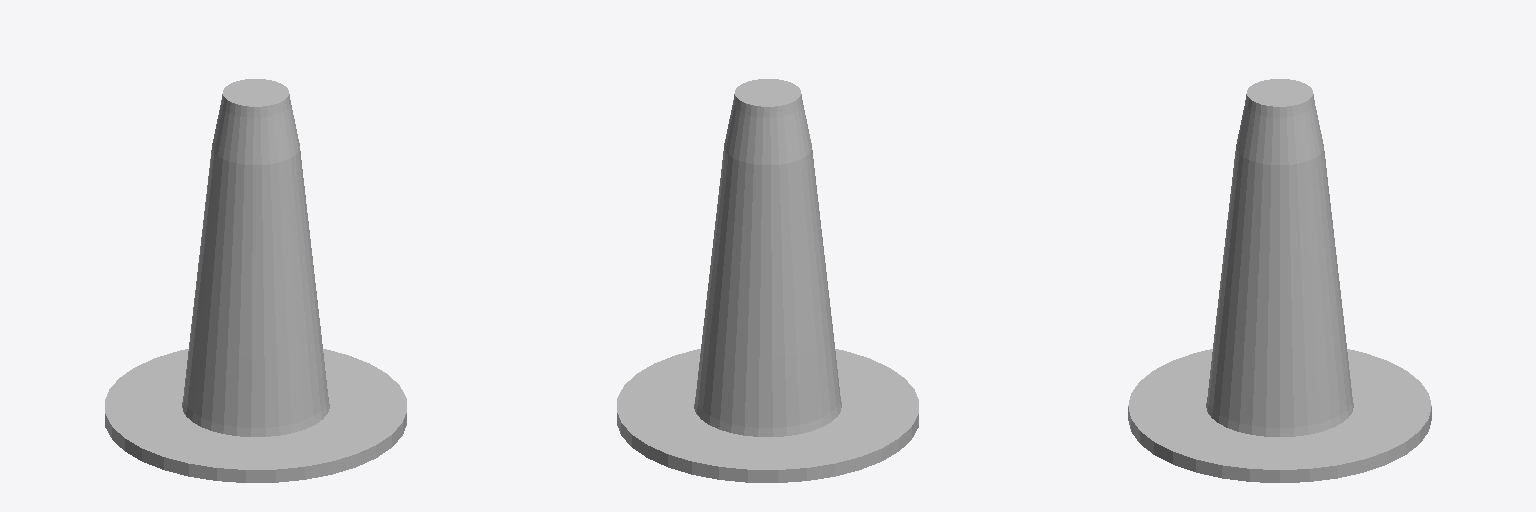
File: lwpltrfccon5.obj
The picture shows the model from 3 angles: view 1: azimuth 30°, elevation 25°; view 2: azimuth 150°, elevation 25°; view 3: azimuth 270°, elevation 25°; orthographic projection.
Parts seen in each view (by area): view 1: Cylinder.000_Cylinder.009; view 2: Cylinder.000_Cylinder.009; view 3: Cylinder.000_Cylinder.009.
Part boxes in pixels (bbox=[...]): Cylinder.000_Cylinder.009: bbox=[105, 79, 406, 482]; Cylinder.000_Cylinder.009: bbox=[617, 79, 918, 482]; Cylinder.000_Cylinder.009: bbox=[1128, 79, 1431, 482].
Size of the model in its own units: 2.49 by 2.96 by 2.49.